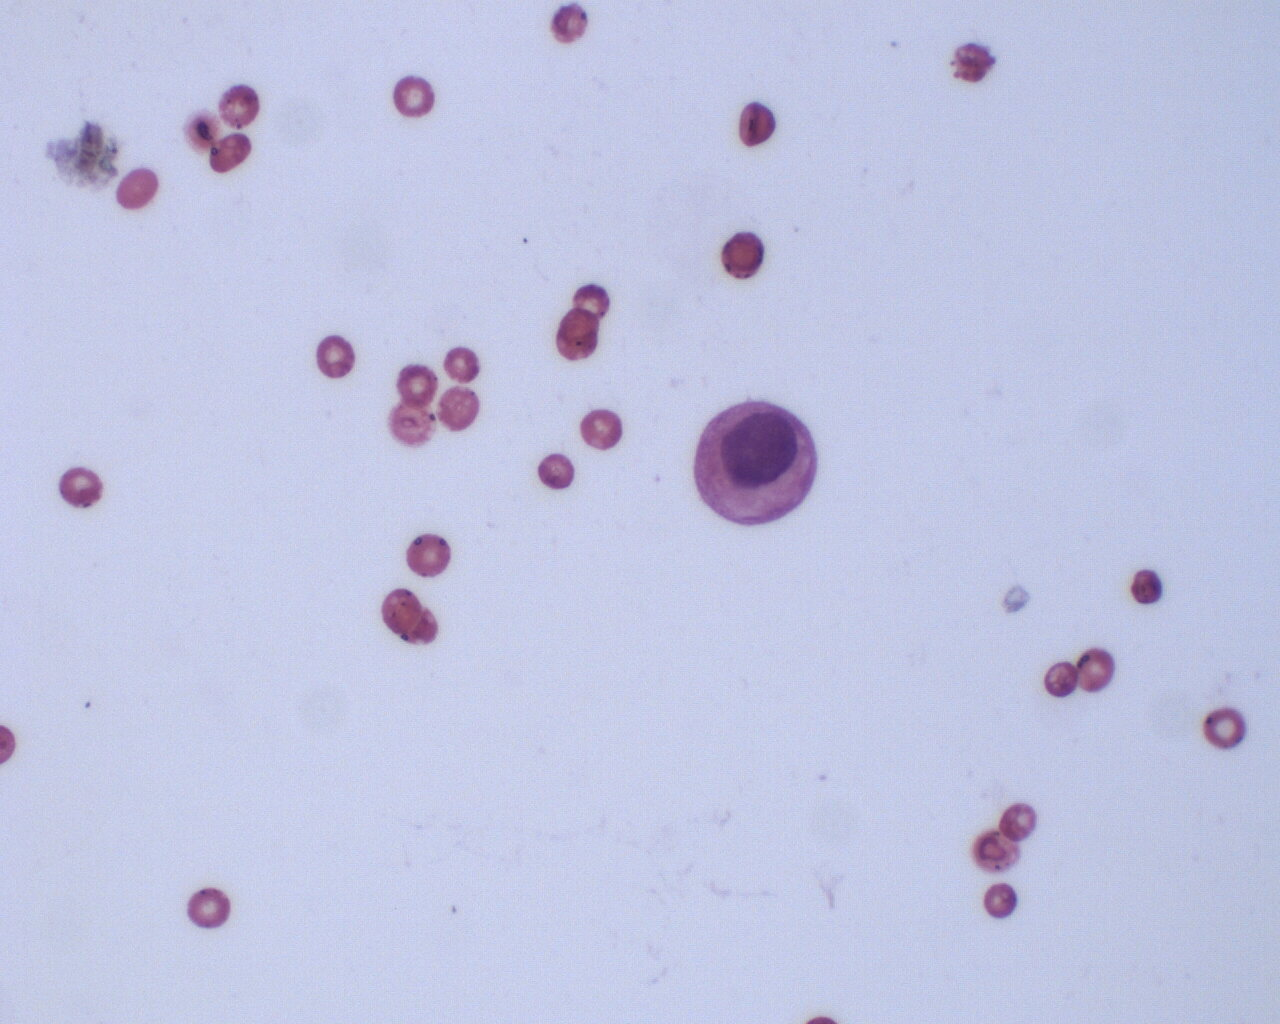meso: (688, 399, 821, 531)
